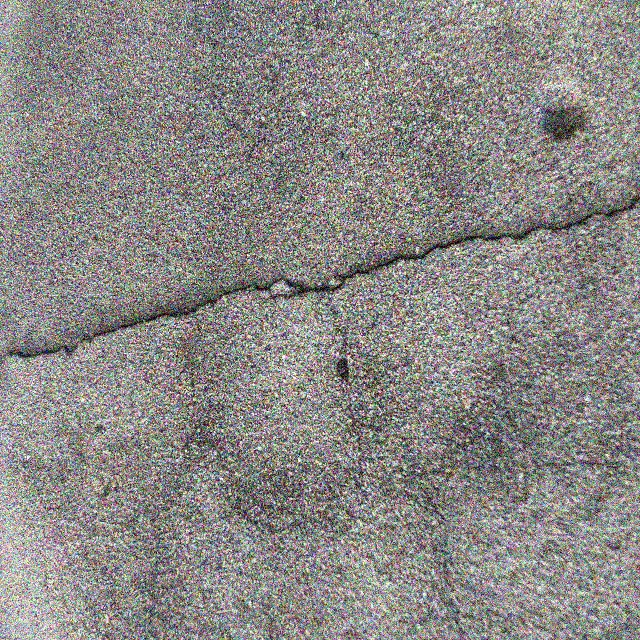SurfaceCrack: (0, 171, 638, 392)
